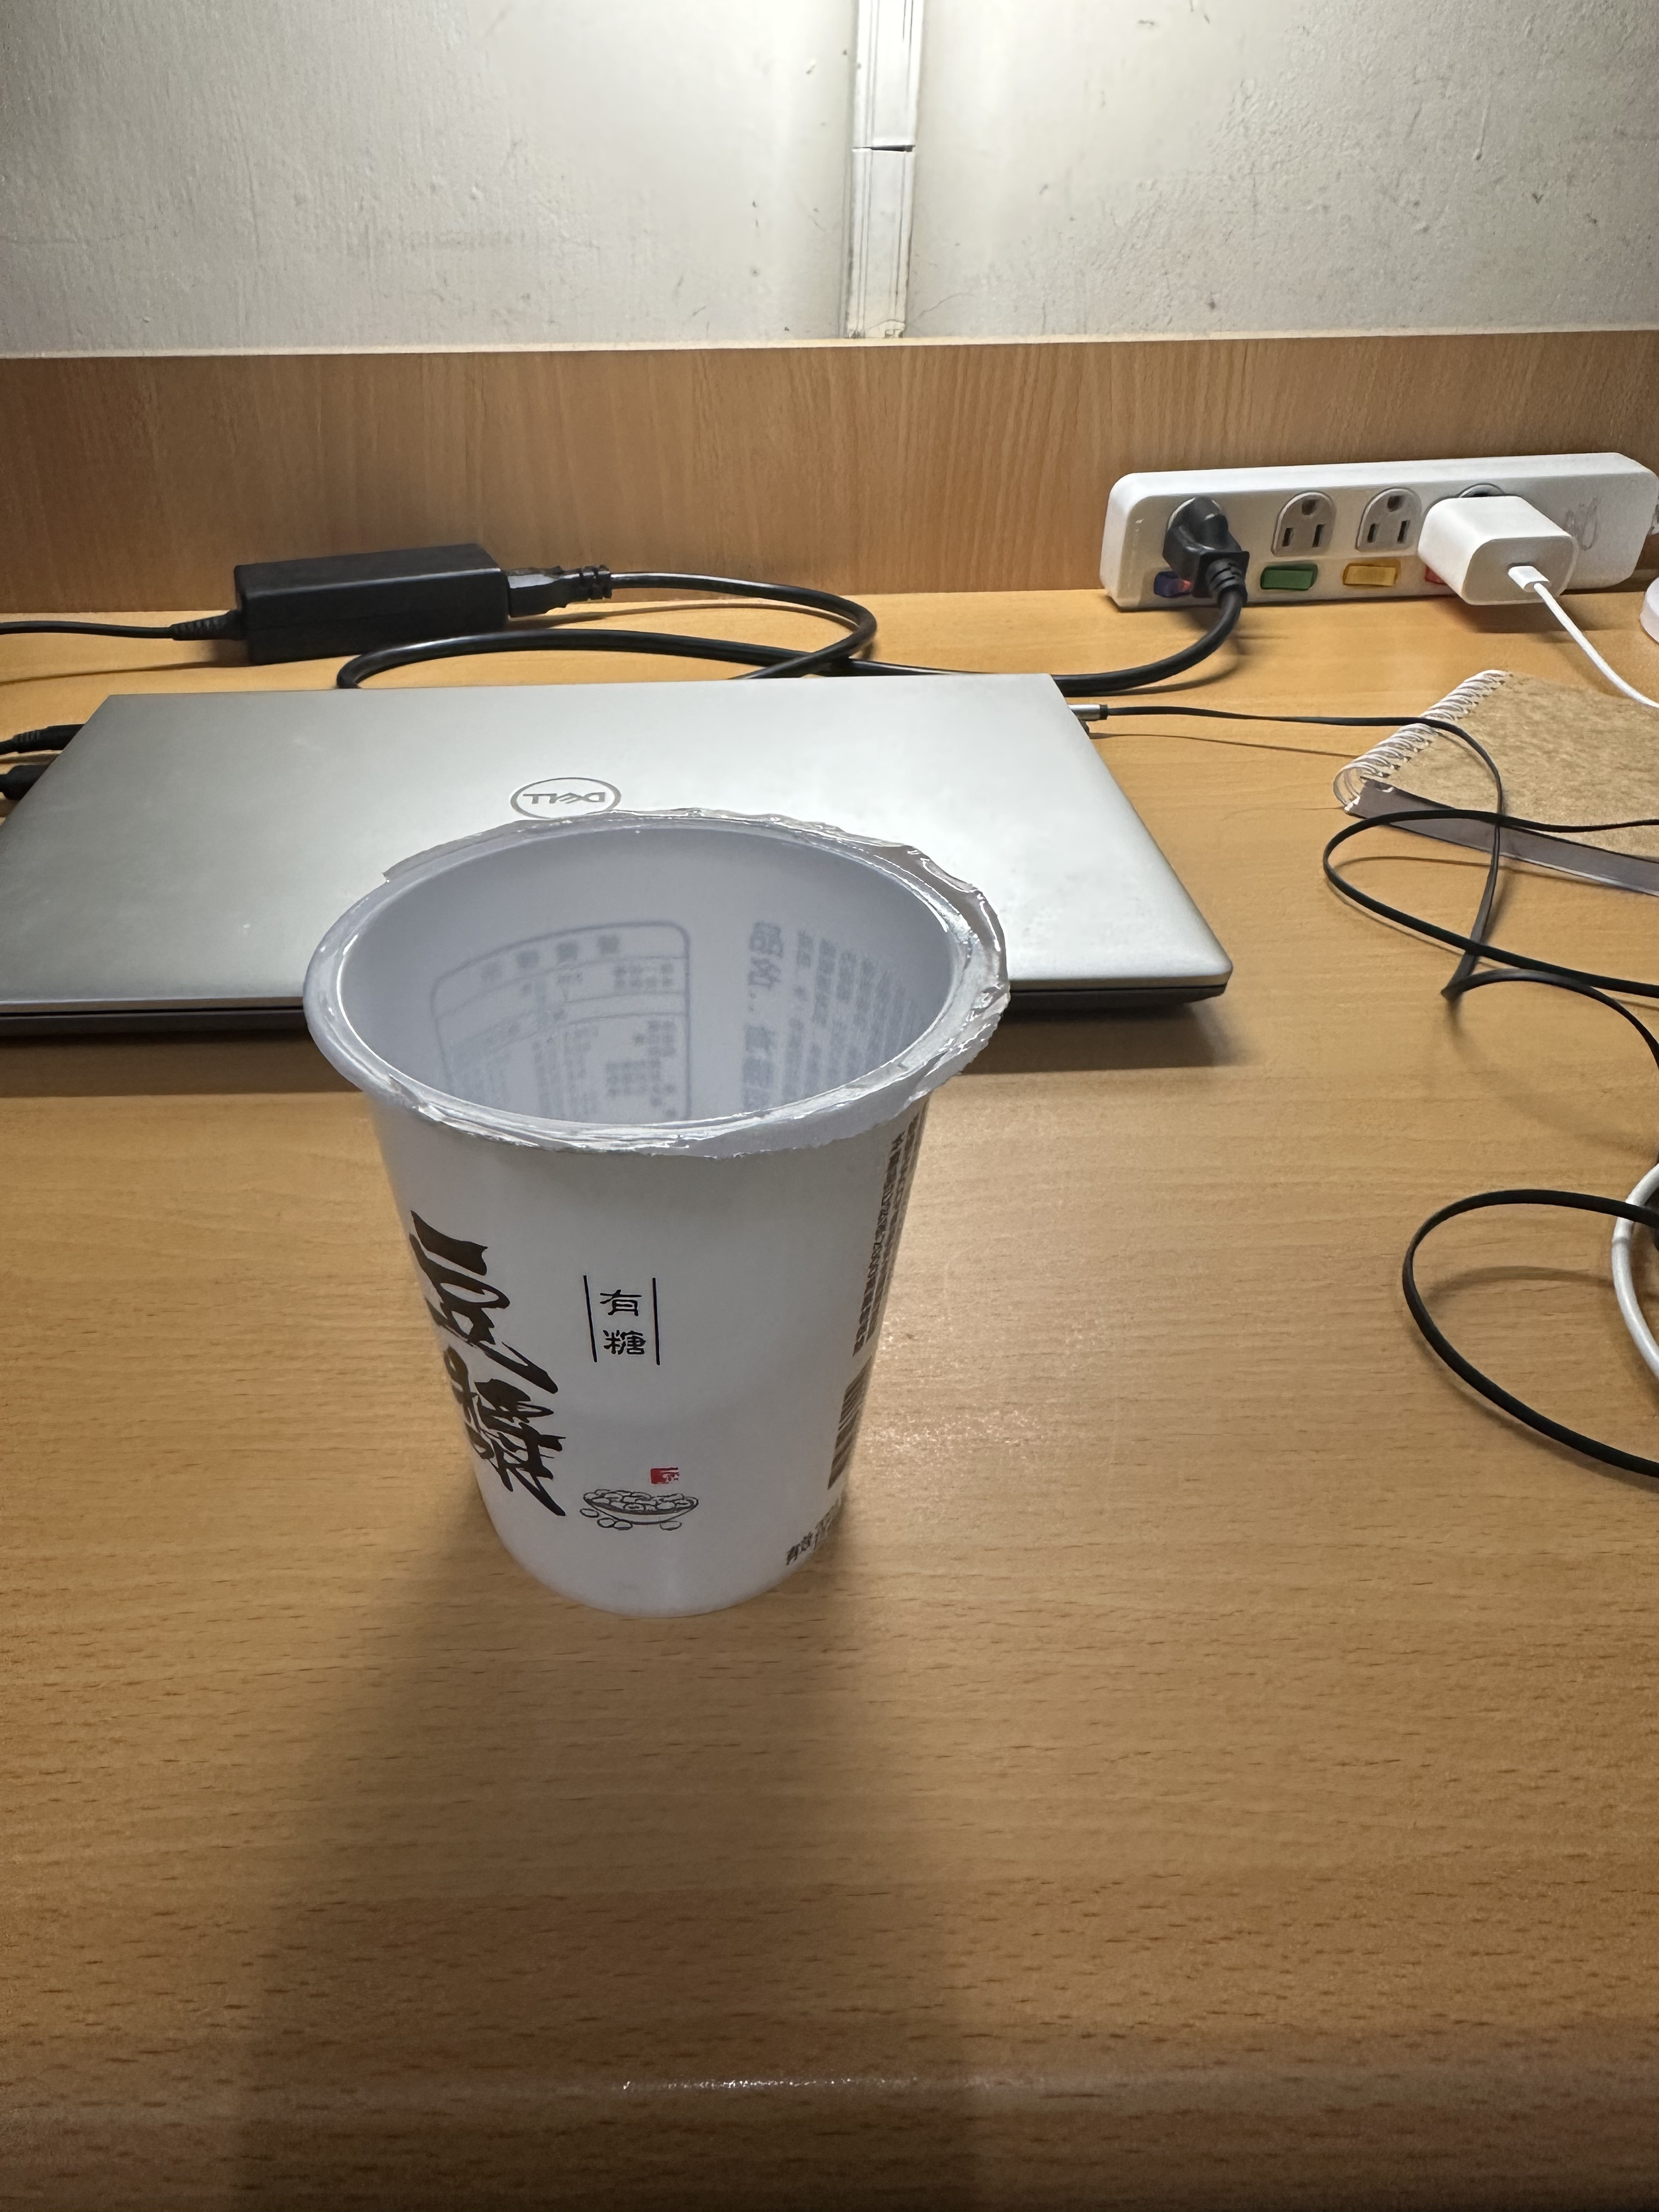cup: (301, 808, 1011, 1620)
